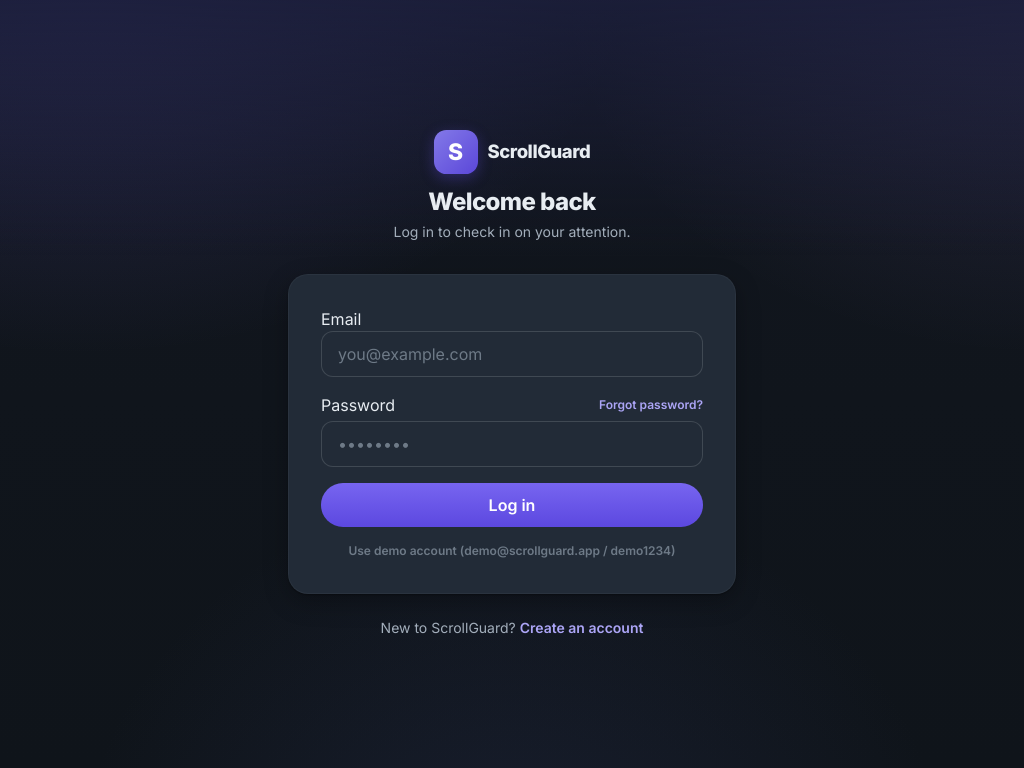
Scenario: Login page › shows a friendly error message when login fails
Type "a@b.co" into the field labelled "Email".
click(512, 354); type("a@b.co")  # box [321,331,703,377]
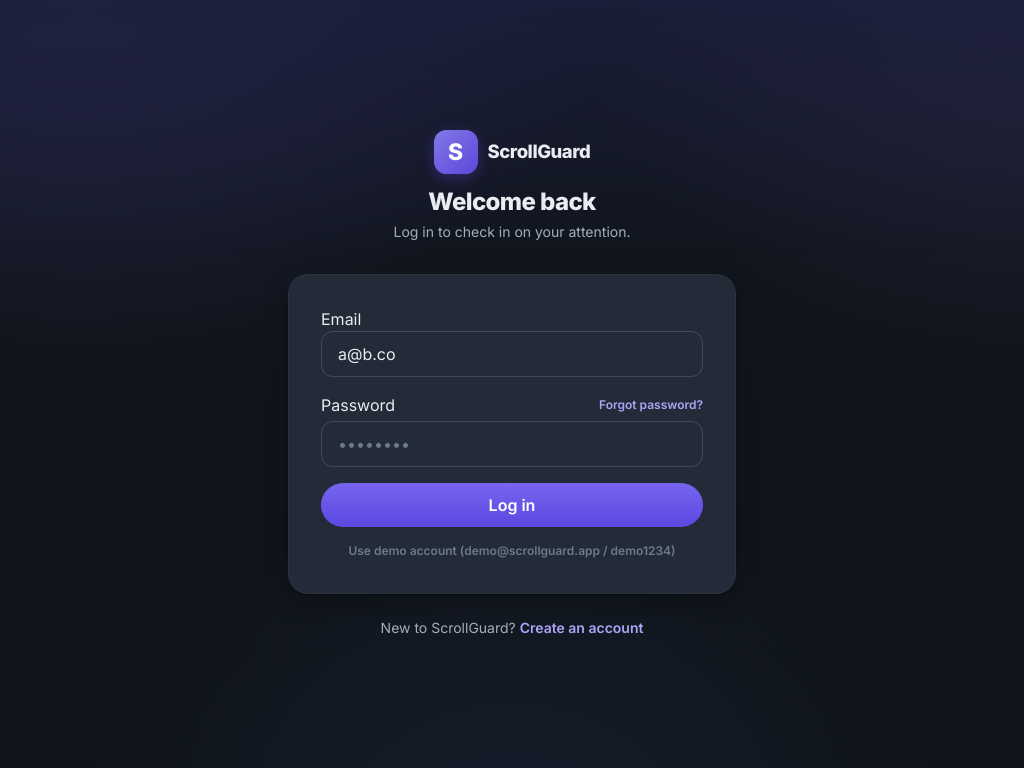
Type "password123" into the password field labelled "Password".
click(512, 444); type("password123")  # box [321,421,703,467]
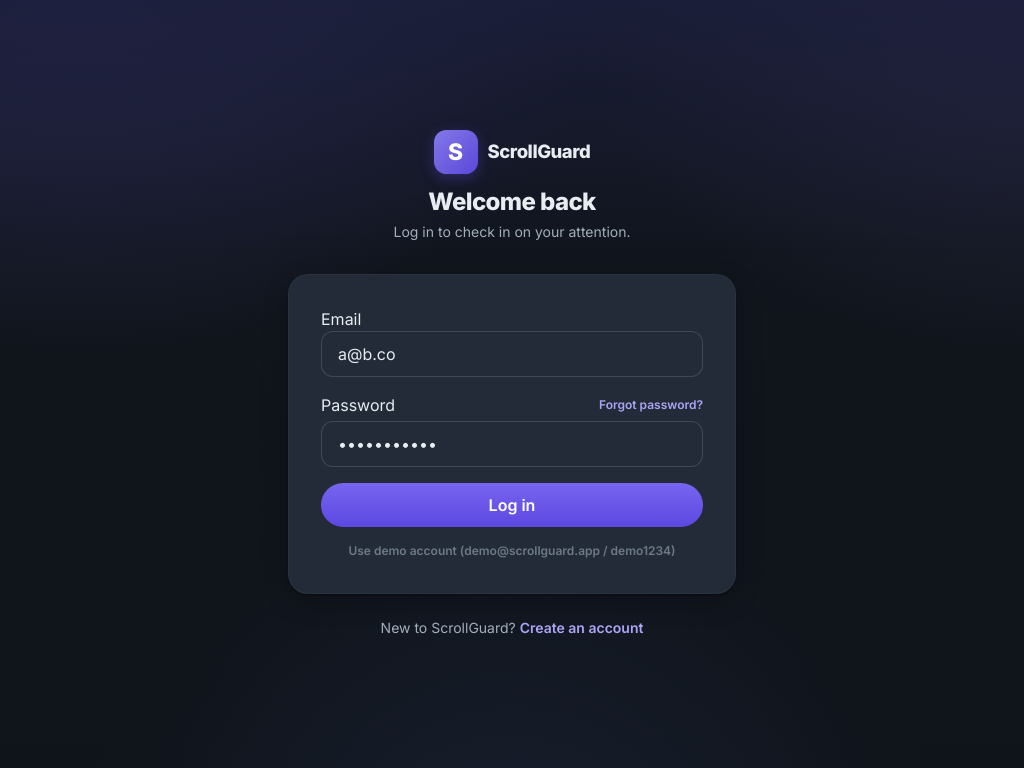
Click the button "Log in".
click(512, 505)  # box [321,483,703,527]
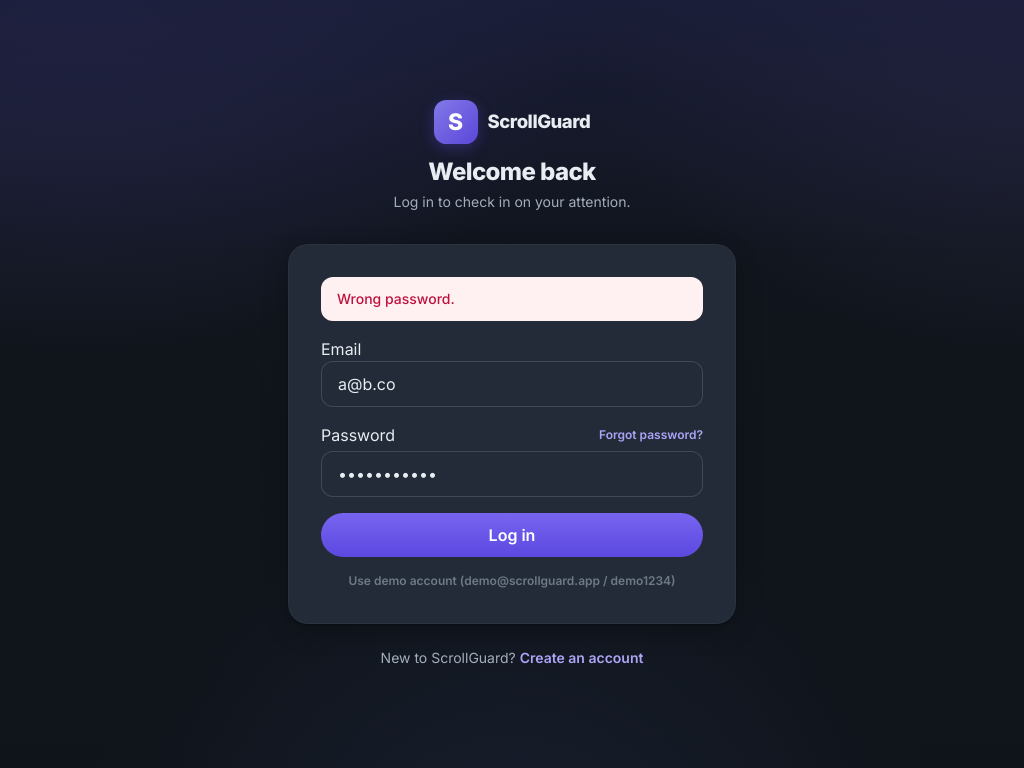
Result: the message shows "Wrong password" at [337,290,455,307]
